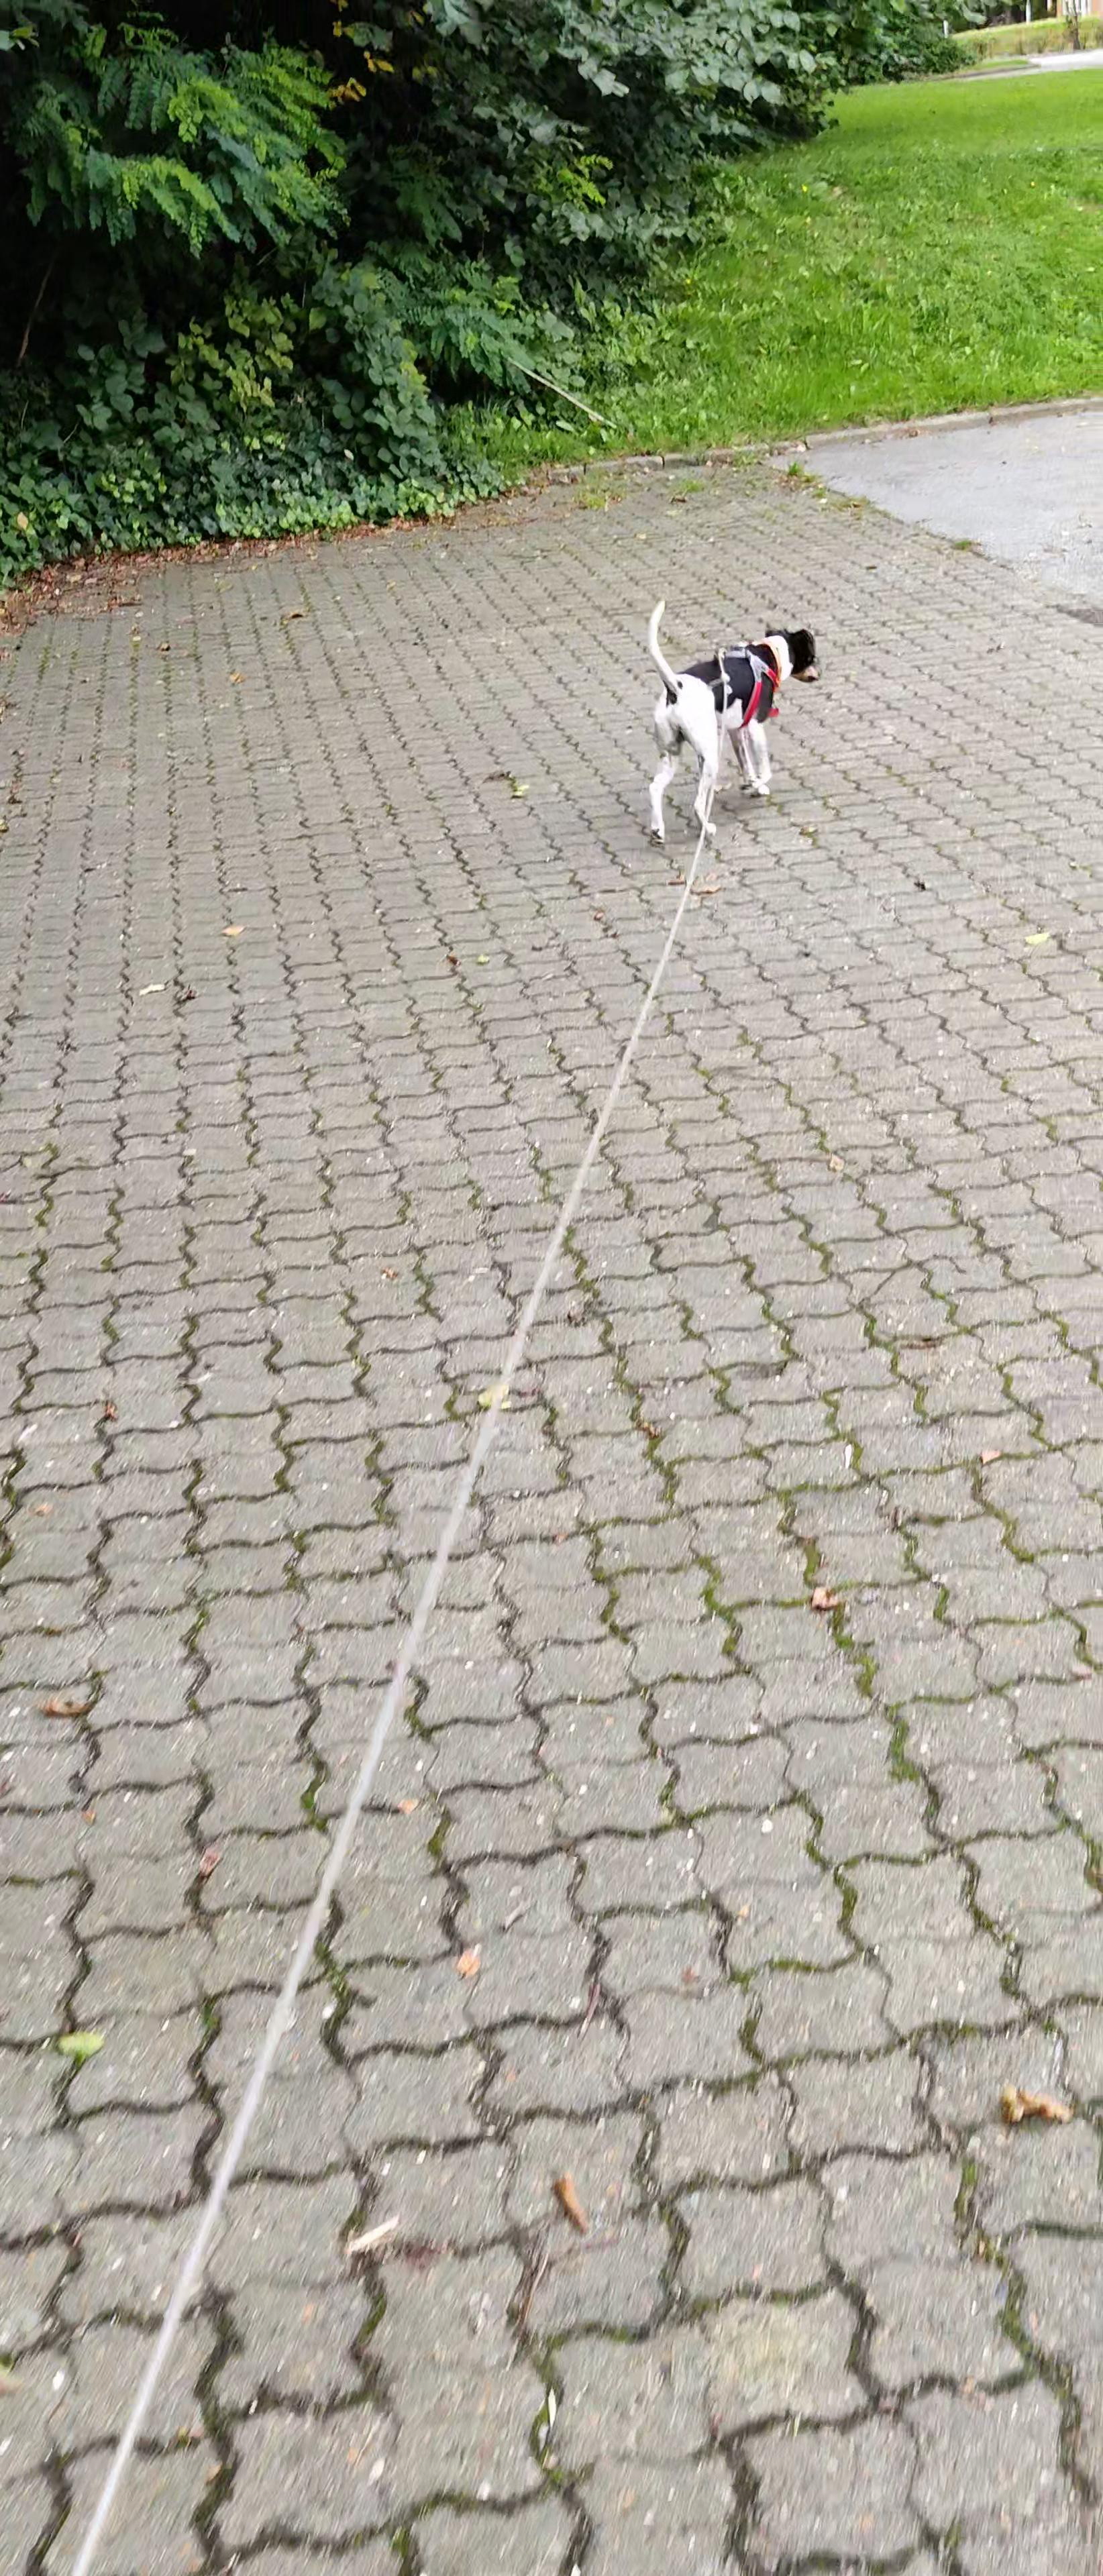Dog: (635, 593, 833, 851)
